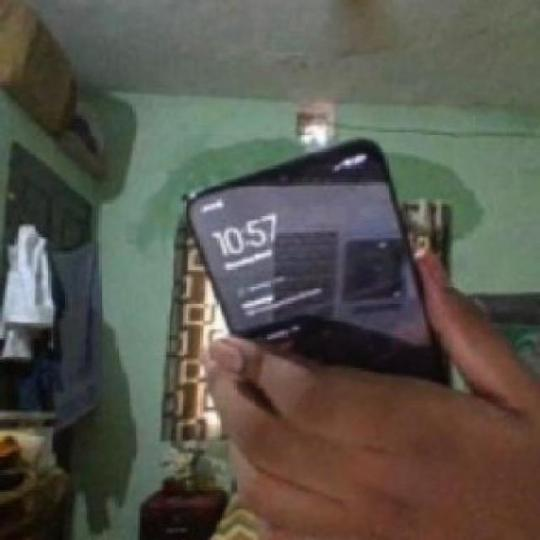phone: (174, 135, 470, 428)
